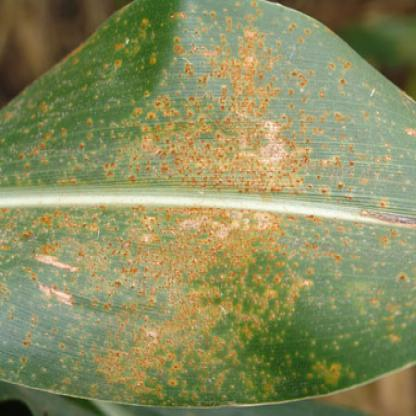Corn rust leaf: (1, 1, 415, 415)
